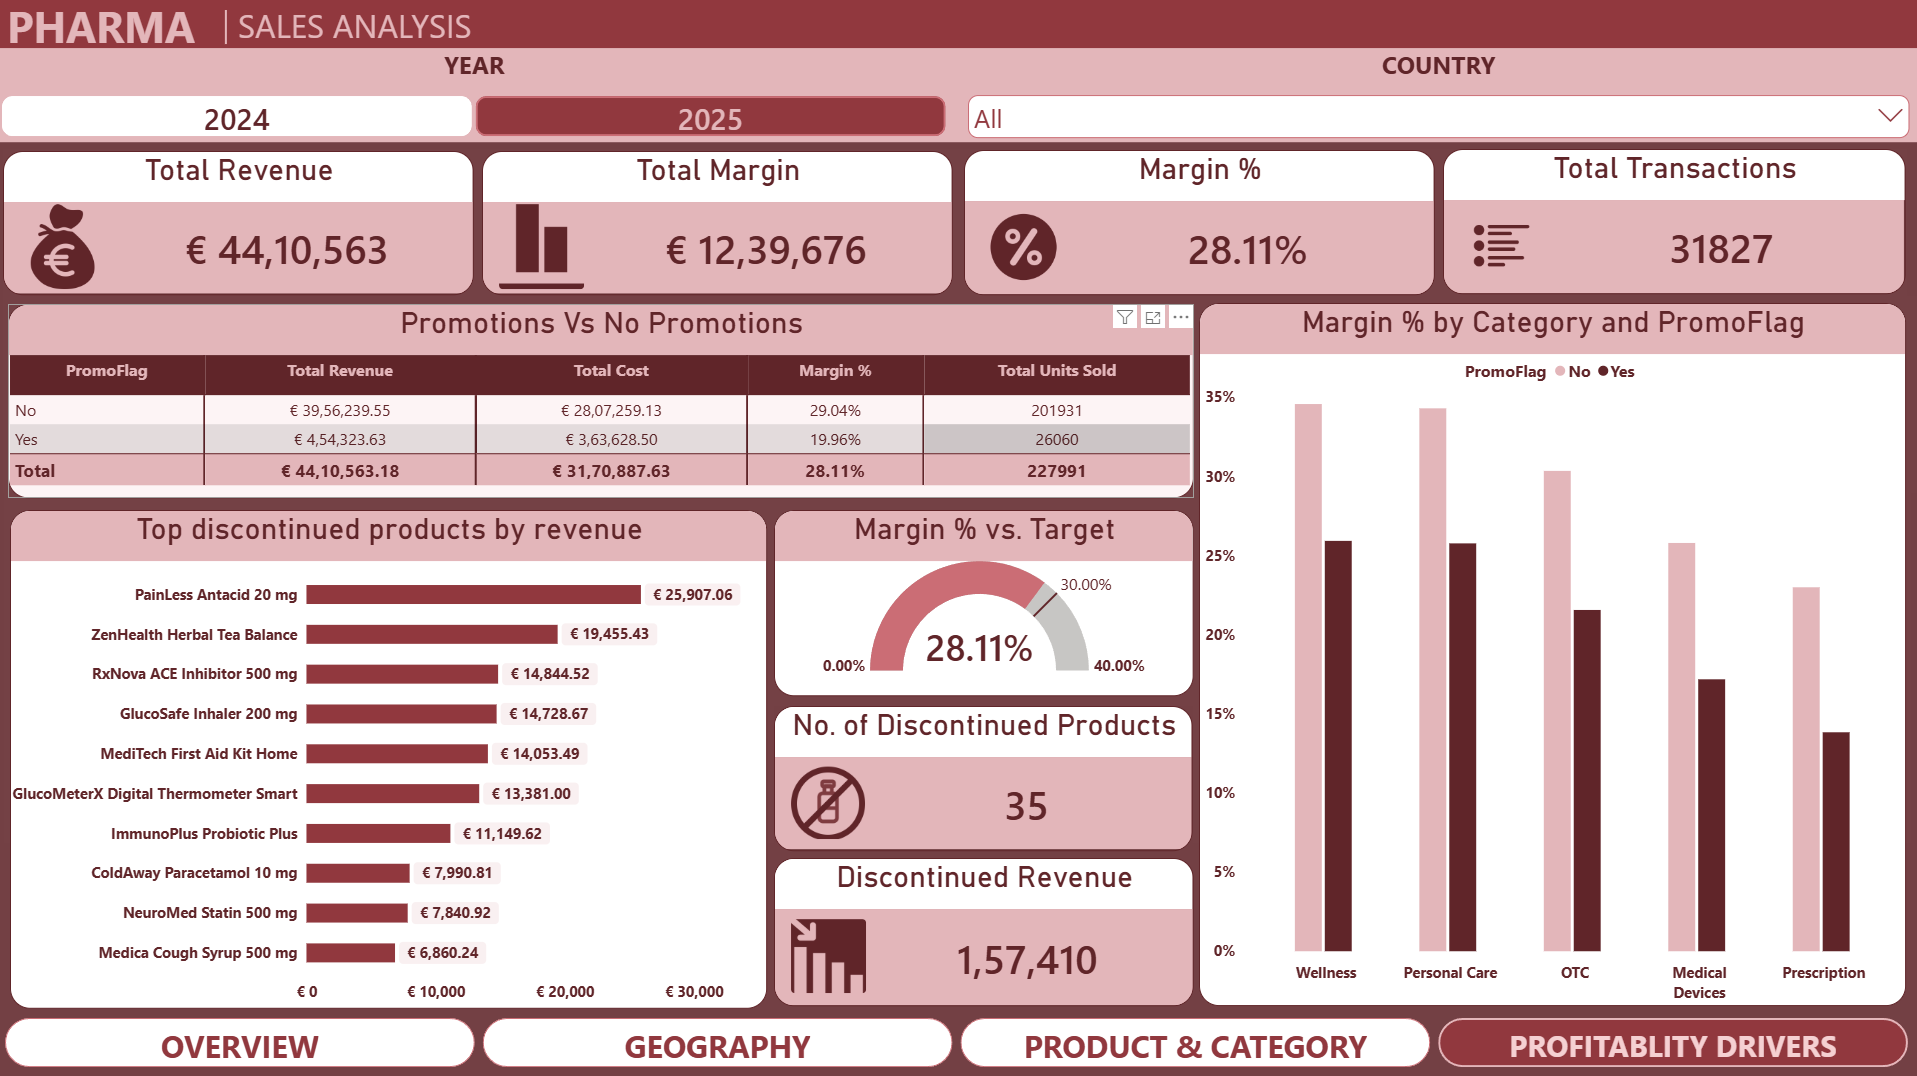

The page's visual inventory and layout, read from the dashboard file:
{"tool":"powerbi","page":{"name":"PROFITABLITY DRIVERS","canvas":[1920,1080],"ordinal":3},"visuals":[{"type":"cardVisual","title":"Margin %","fields":{"Data":["Measures_Table.Margin %"]},"box":[965,152.5,470,145],"z":0},{"type":"shape","box":[0,0,1920,145],"z":1000},{"type":"shape","box":[0,0,1920,51.2],"z":2000},{"type":"textbox","box":[241.1,6.3,276.4,56.8],"z":3000},{"type":"shape","box":[221.1,13.2,15.8,34],"z":4000},{"type":"cardVisual","title":"Total Revenue","fields":{"Data":["Measures_Table.Total Revenue"]},"box":[6.2,153.8,470,143.8],"z":5000},{"type":"cardVisual","title":"Total Transactions","fields":{"Data":["Measures_Table.Total Transactions"]},"box":[1443.9,152.1,461.8,145.5],"z":6000},{"type":"cardVisual","title":"Total Margin","fields":{"Data":["Measures_Table.Total Margin"]},"box":[483.8,153.8,470,143.8],"z":7000},{"type":"tableEx","title":"Promotions Vs No Promotions","fields":{"Values":["T_FactSales.PromoFlag","Measures_Table.Total Revenue","Measures_Table.Total Cost","Measures_Table.Margin %","Measures_Table.Total Units Sold"]},"box":[11.2,306.2,1183.8,193.8],"z":8000},{"type":"clusteredColumnChart","fields":{"Category":["T_DimProduct.Category"],"Series":["T_FactSales.PromoFlag"],"Y":["Measures_Table.Margin %"]},"box":[1200.6,305.9,705.7,702.2],"z":9000},{"type":"clusteredBarChart","title":"Top discontinued products by revenue","fields":{"Category":["T_DimProduct.ProductName"],"Y":["Measures_Table.Total Revenue"]},"box":[12.5,512.5,756.2,497.5],"z":10000},{"type":"cardVisual","title":"No. of Discontinued Products","fields":{"Data":["Measures_Table.Discontinued Products"]},"box":[776.2,707.7,418.5,144.6],"z":11000},{"type":"cardVisual","title":"Discontinued Revenue","fields":{"Data":["Measures_Table.Discontinued Revenue"]},"box":[775.8,860,419.2,148.3],"z":12000},{"type":"gauge","title":"Margin % vs. Target","fields":{"Y":["Measures_Table.Margin %"]},"box":[776.2,512.5,418.8,186.2],"z":13000},{"type":"pageNavigator","box":[7.7,1019.5,1901.3,49.6],"z":14000},{"type":"advancedSlicerVisual","title":"YEAR","fields":{"Values":["T_DimDate.Year"]},"box":[0,51.2,953.3,93.3],"z":14001},{"type":"slicer","title":"COUNTRY","fields":{"Values":["T_DimPharmacy.Country"]},"box":[960,51.3,960,93],"z":14002}]}

Visuals, with their boxes in screenshot pixels (x1, y1, x2, y2), scaled from the page's 1920x1080 canvas onto the 1917x1076 screenshot:
"Margin %" cardVisual: (963,152,1433,296)
shape: (0,0,1916,144)
shape: (0,0,1916,51)
textbox: (241,6,517,63)
shape: (221,13,237,47)
"Total Revenue" cardVisual: (6,153,475,296)
"Total Transactions" cardVisual: (1442,152,1903,296)
"Total Margin" cardVisual: (483,153,952,296)
"Promotions Vs No Promotions" tableEx: (11,305,1193,498)
clusteredColumnChart - T_DimProduct.Category x T_FactSales.PromoFlag: (1199,305,1903,1004)
"Top discontinued products by revenue" clusteredBarChart: (12,511,767,1006)
"No. of Discontinued Products" cardVisual: (775,705,1193,849)
"Discontinued Revenue" cardVisual: (775,857,1193,1005)
"Margin % vs. Target" gauge: (775,511,1193,696)
pageNavigator: (8,1016,1906,1065)
"YEAR" advancedSlicerVisual: (0,51,952,144)
"COUNTRY" slicer: (958,51,1916,144)
